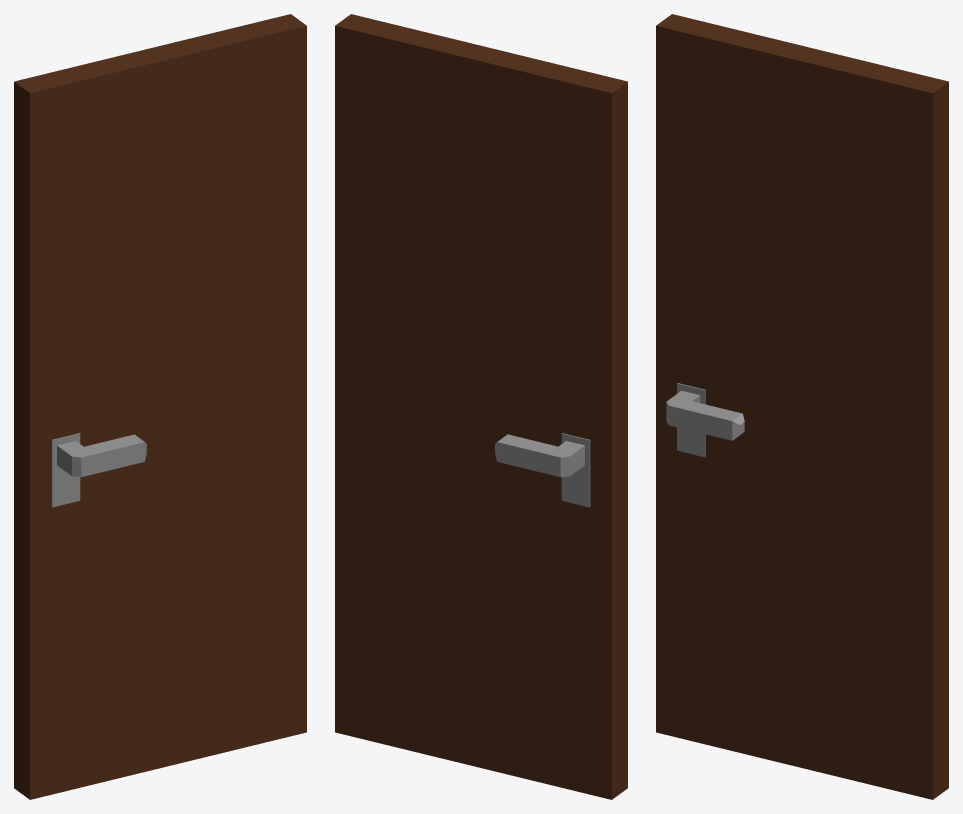
The model's file is ChaletDoor.fbx.
3 views of the same model, side by side, from view 1: azimuth 30°, elevation 25°; view 2: azimuth 150°, elevation 25°; view 3: azimuth 330°, elevation 25° (orthographic).
Parts seen in each view (by area): view 1: DoorHalf; view 2: DoorHalf; view 3: DoorHalf.
Part boxes in pixels (bbox=[...]): DoorHalf: bbox=[14, 14, 306, 799]; DoorHalf: bbox=[335, 14, 627, 799]; DoorHalf: bbox=[656, 14, 948, 799].
Size of the model in its own units: 1.99 by 0.6778 by 4.85.
